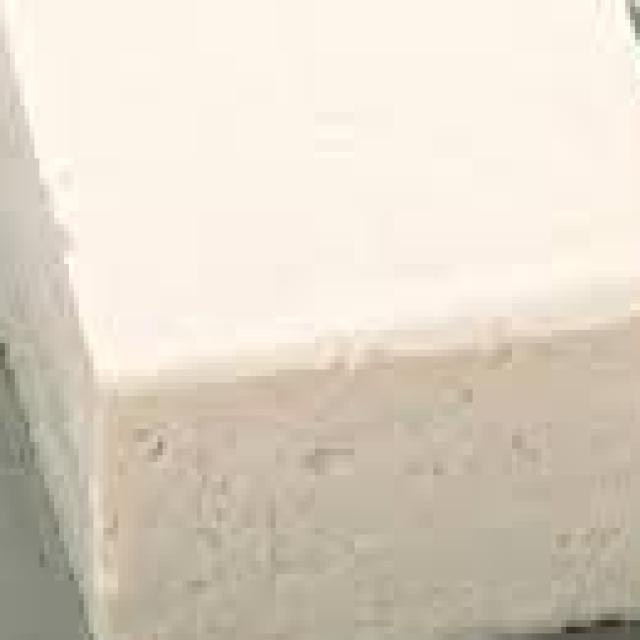tofu: (0, 0, 640, 620)
